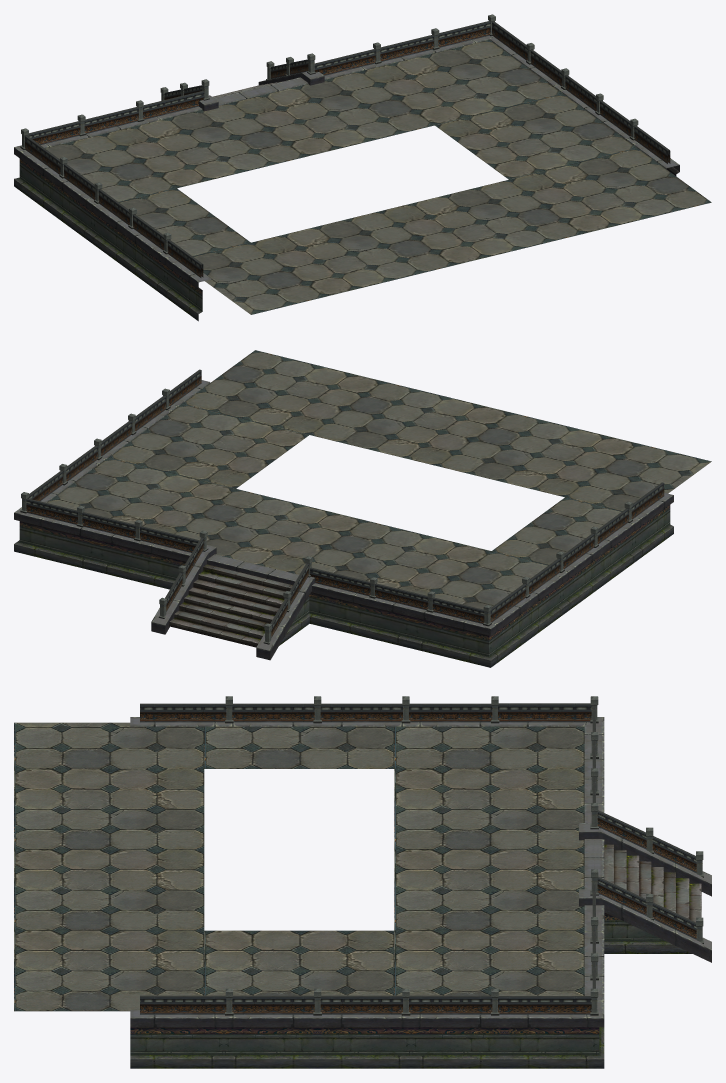
The model's file is HYC_dizuo.FBX.
3 views of the same model, one above another, from view 1: azimuth 30°, elevation 25°; view 2: azimuth 150°, elevation 25°; view 3: azimuth 270°, elevation 25° (orthographic). The views are drawn at different scales.
Parts seen in each view (by area): view 1: HYC_dizuo; view 2: HYC_dizuo; view 3: HYC_dizuo.
Boxes of the visible parts, box(x1,y1,x2,y2) form: HYC_dizuo: box(14, 14, 711, 321); HYC_dizuo: box(14, 350, 711, 667); HYC_dizuo: box(14, 696, 711, 1068).
Bounding box in the file's own units: 2030 × 280 × 1988.
